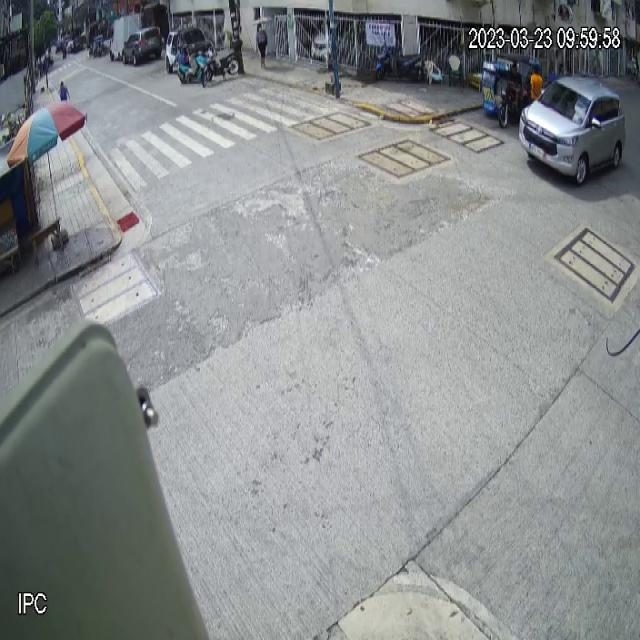Car: (519, 76, 626, 186)
